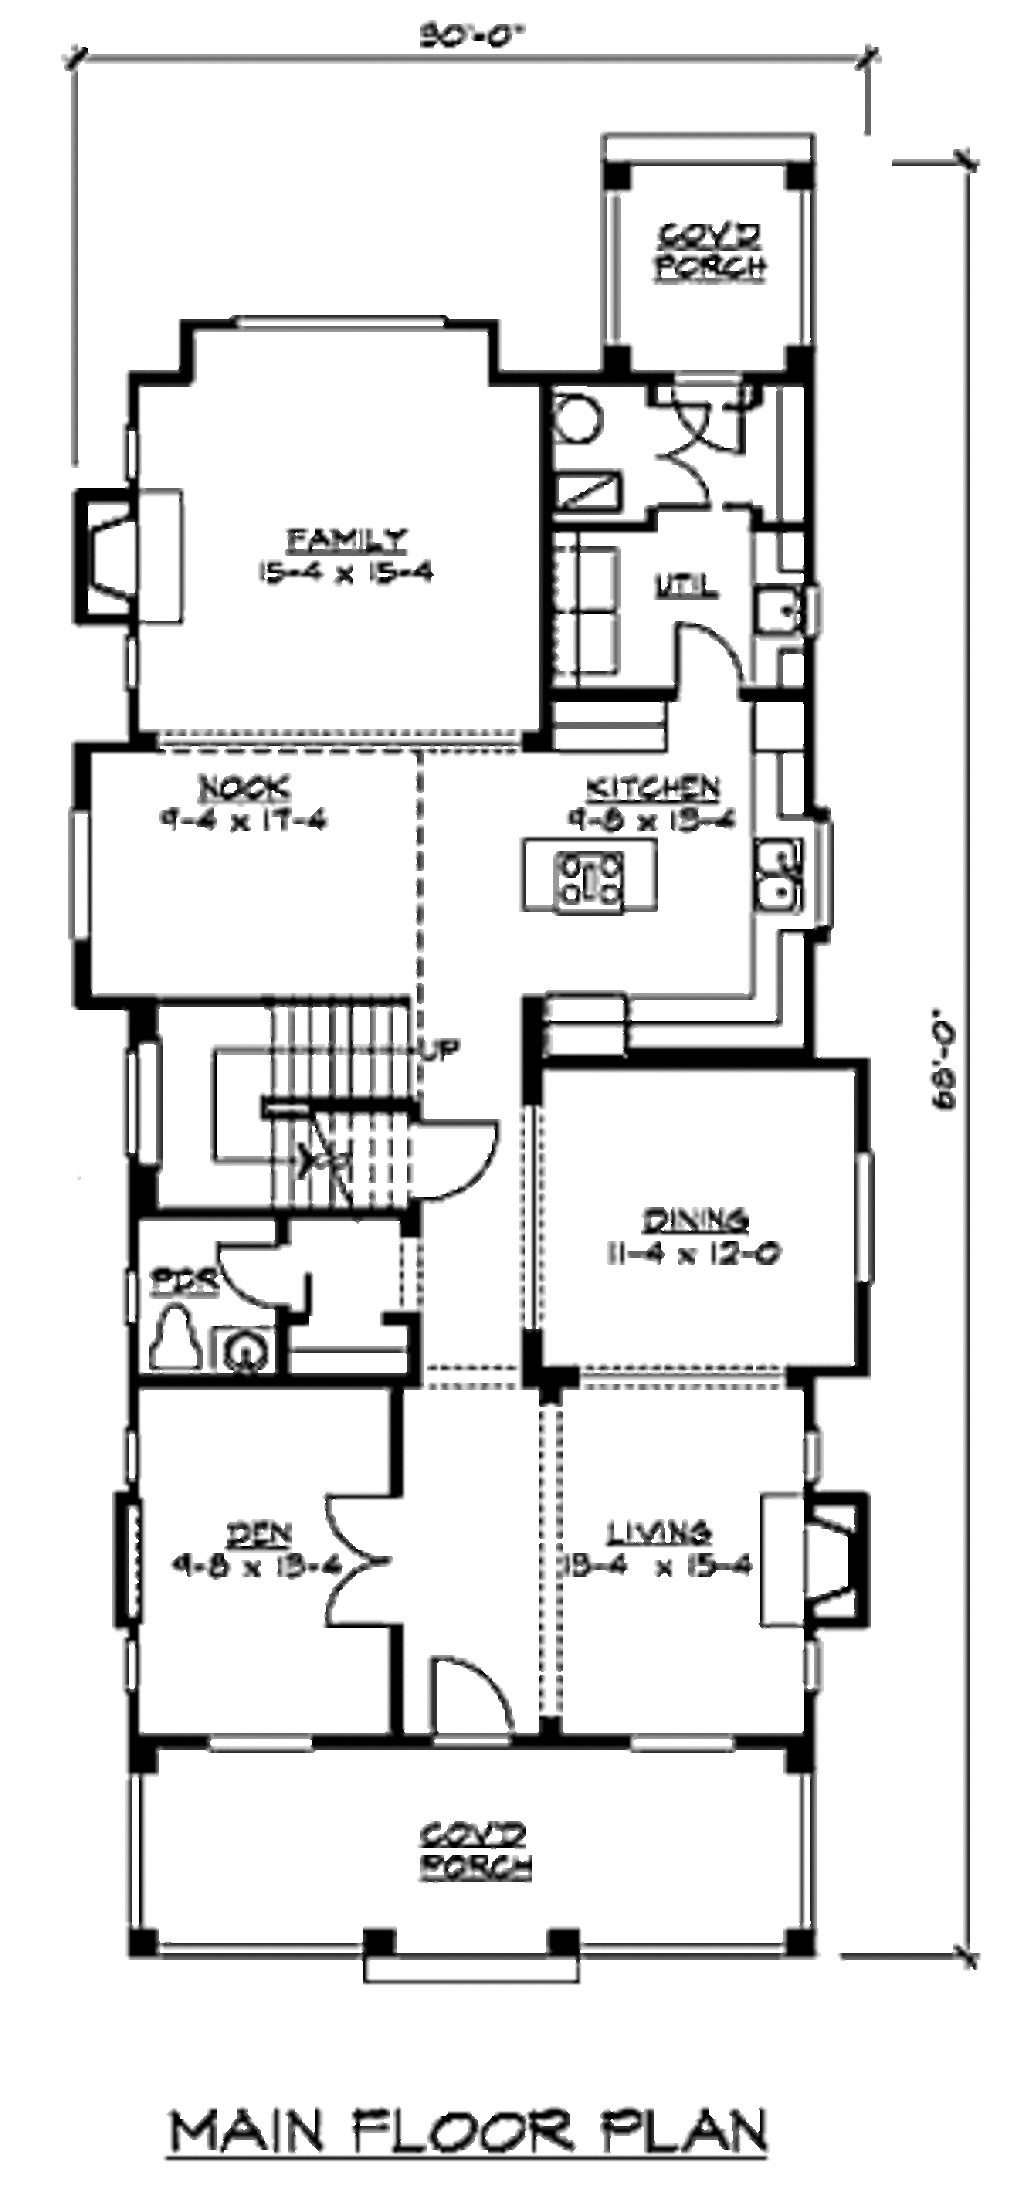door: (306, 1467, 420, 1645), (634, 391, 733, 514), (393, 1645, 520, 1737), (660, 351, 766, 461), (199, 1226, 310, 1318), (390, 1108, 500, 1200), (663, 597, 753, 708)
large_sink: (140, 1295, 216, 1380)
small_sink: (216, 1311, 287, 1380)
stairs: (160, 998, 430, 1212)
twin_sink: (743, 798, 816, 931)
window: (53, 784, 100, 975), (610, 1718, 753, 1771), (843, 1139, 886, 1309), (197, 1715, 326, 1771)
